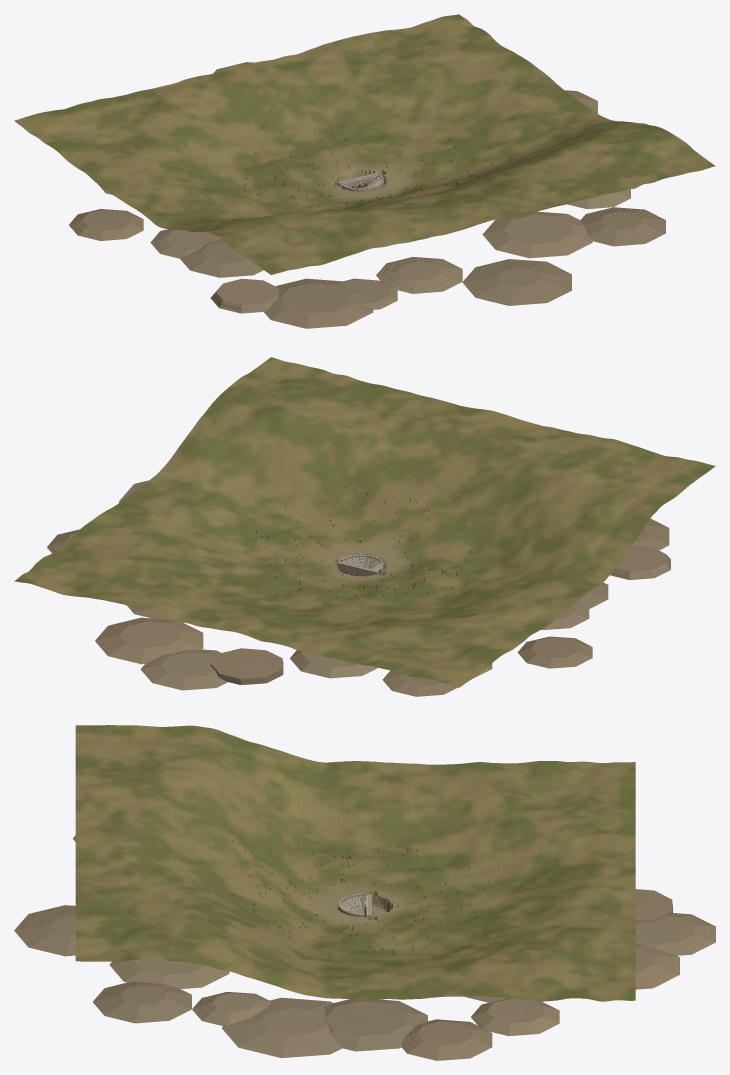
File: hierapolis-tiyatrosu-baked.glb
3 renders of one model, top to bottom at view 1: azimuth 30°, elevation 25°; view 2: azimuth 150°, elevation 25°; view 3: azimuth 270°, elevation 25°, orthographic. The views are drawn at different scales.
Visible parts, largest first — view 1: hierapolis-tiyatrosu-terrain, hierapolis-tiyatrosu-ground, hierapolis-tiyatrosu-near; view 2: hierapolis-tiyatrosu-terrain, hierapolis-tiyatrosu-ground, hierapolis-tiyatrosu-near; view 3: hierapolis-tiyatrosu-terrain, hierapolis-tiyatrosu-ground, hierapolis-tiyatrosu-near.
Part boxes in pixels (bbox=[...]): hierapolis-tiyatrosu-terrain: bbox=[14, 14, 715, 274]; hierapolis-tiyatrosu-ground: bbox=[69, 62, 665, 328]; hierapolis-tiyatrosu-near: bbox=[337, 173, 384, 192]; hierapolis-tiyatrosu-terrain: bbox=[14, 357, 715, 687]; hierapolis-tiyatrosu-ground: bbox=[47, 480, 670, 696]; hierapolis-tiyatrosu-near: bbox=[337, 554, 384, 576]; hierapolis-tiyatrosu-terrain: bbox=[75, 725, 635, 1001]; hierapolis-tiyatrosu-ground: bbox=[14, 835, 715, 1060]; hierapolis-tiyatrosu-near: bbox=[338, 893, 374, 919].
Bounding box in the file's own units: 1328 × 169 × 1404.
25 materials, 19 textured.
